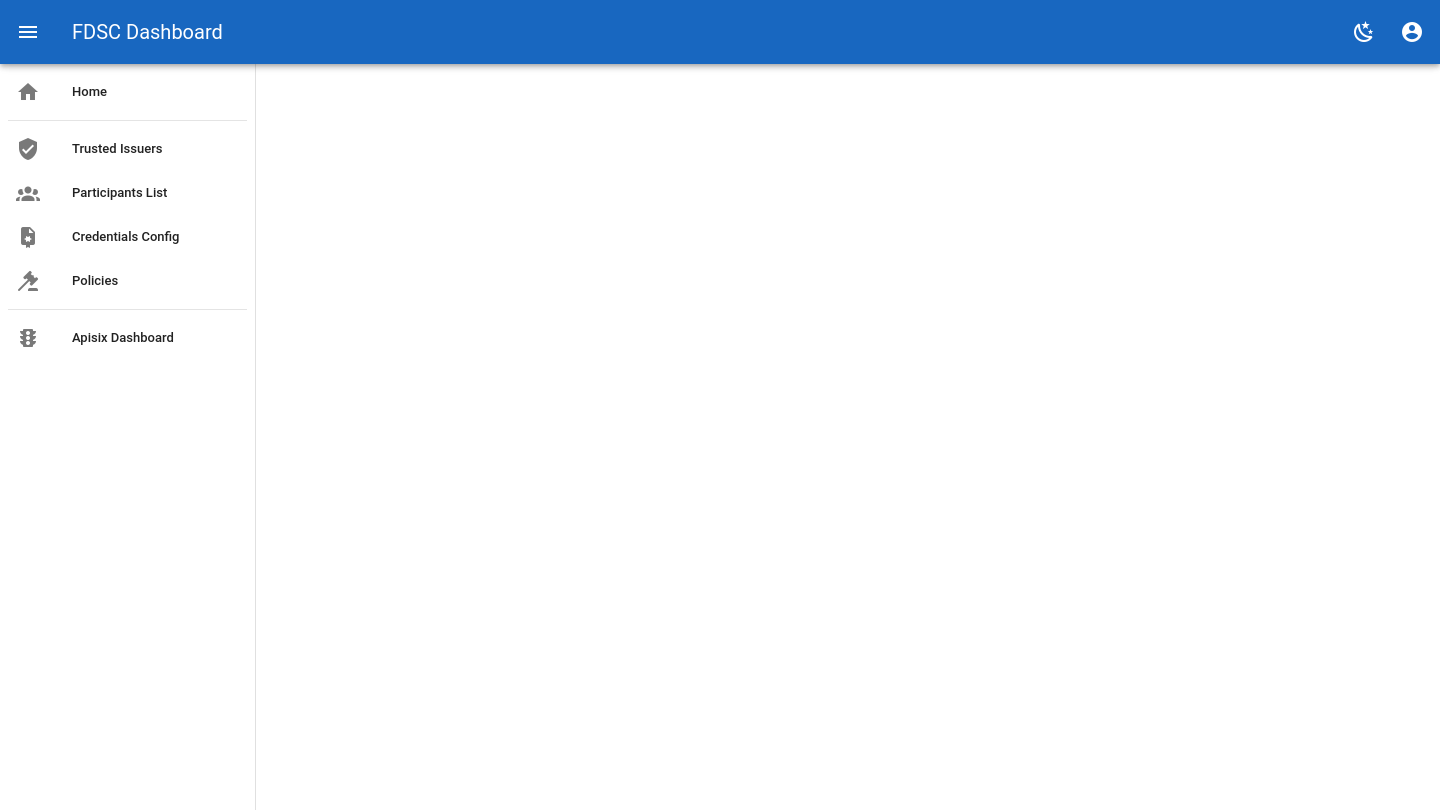
Scenario: App.vue user menu › menu content › falls back to the raw provider id when no matching config is registered
This screenshot has width=1440, height=810.
Step 1. Click the button with class "user-menu-activator" → (1412, 32), box [1388,8,1436,56]
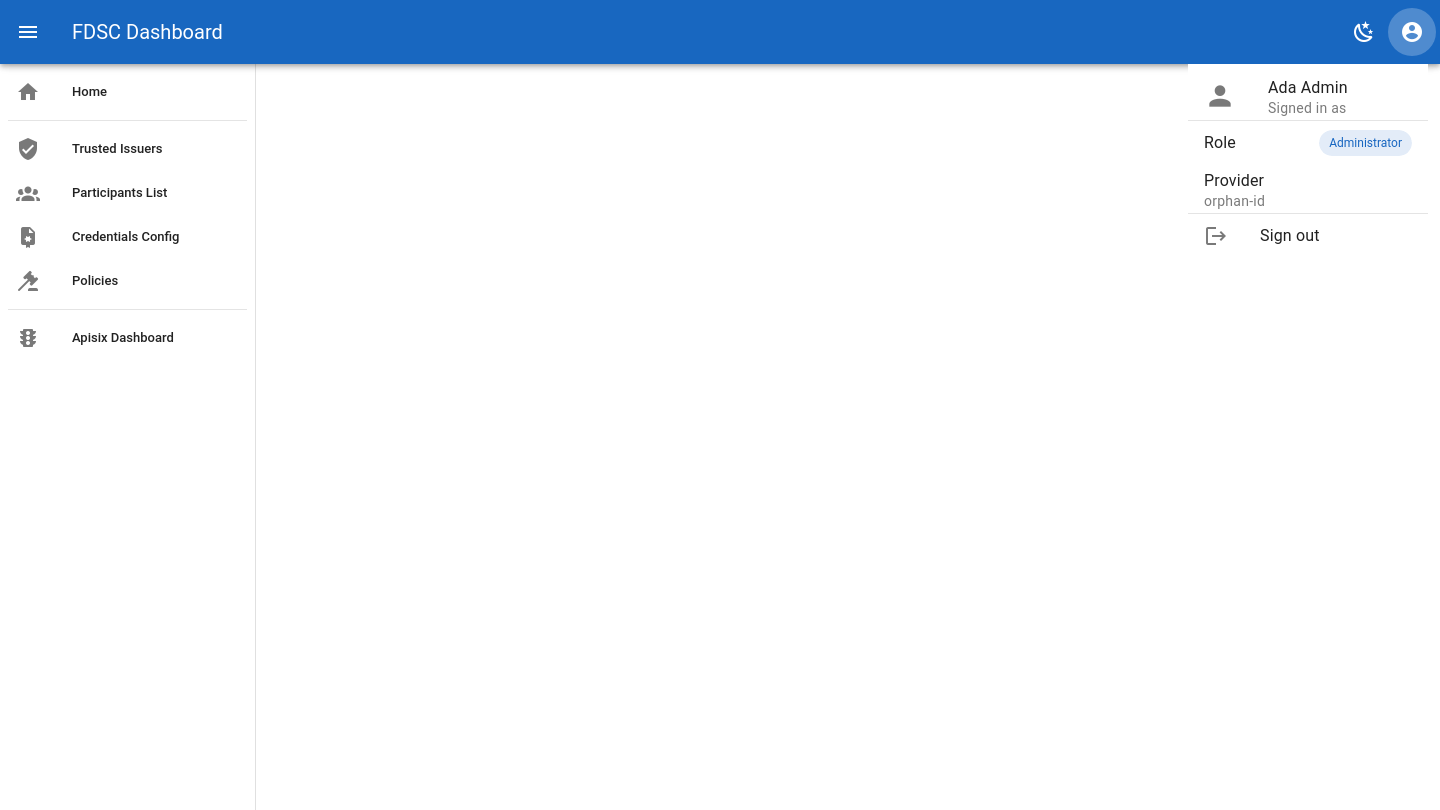
expect the text "orphan-id" is shown: met, box [1204,193,1265,209]
